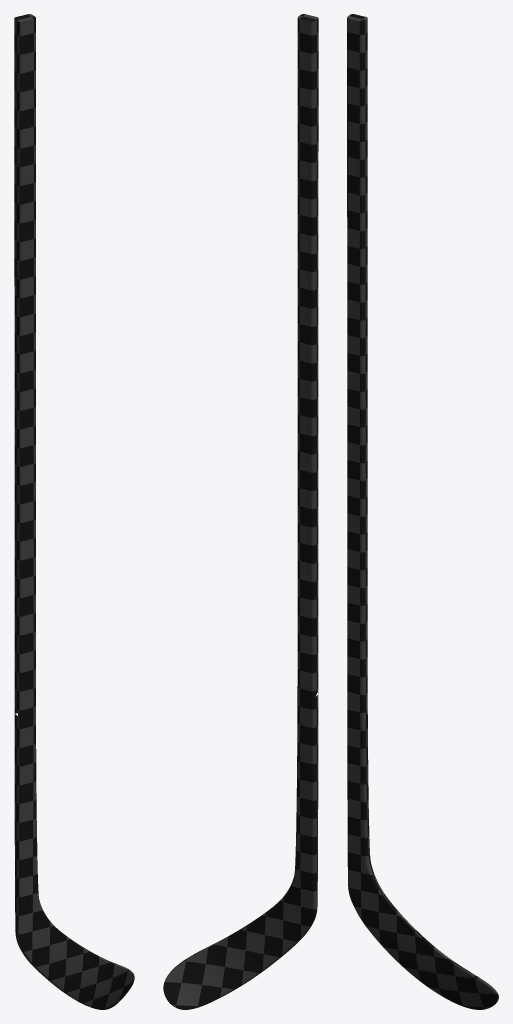
3 renders of one model, left to right at view 1: azimuth 30°, elevation 25°; view 2: azimuth 150°, elevation 25°; view 3: azimuth 330°, elevation 25°, orthographic. The views are drawn at different scales.
Parts seen in each view (by area): view 1: geometry_0; view 2: geometry_0; view 3: geometry_0.
Boxes of the visible parts, x1,y1,x2,y2 form: geometry_0: [14, 14, 134, 1009]; geometry_0: [163, 14, 318, 1009]; geometry_0: [347, 14, 498, 1009].
Bounding box in the file's own units: 230 × 1650 × 76.6.
1 material, 1 textured.
